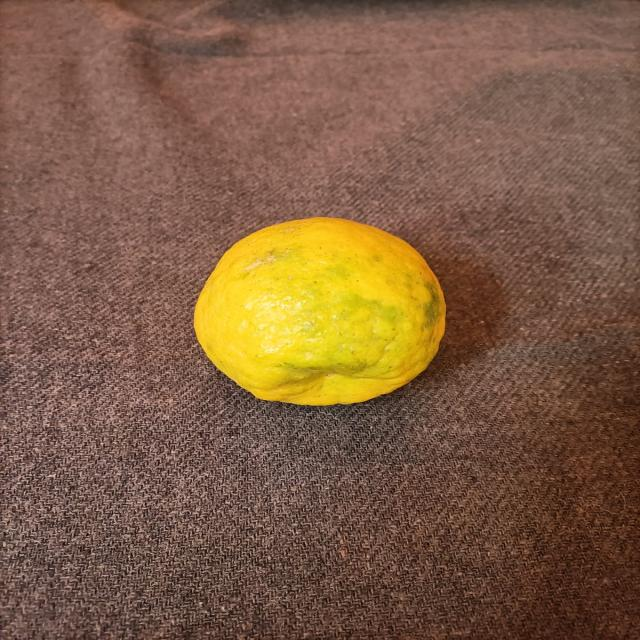orange: (143, 172, 474, 525)
